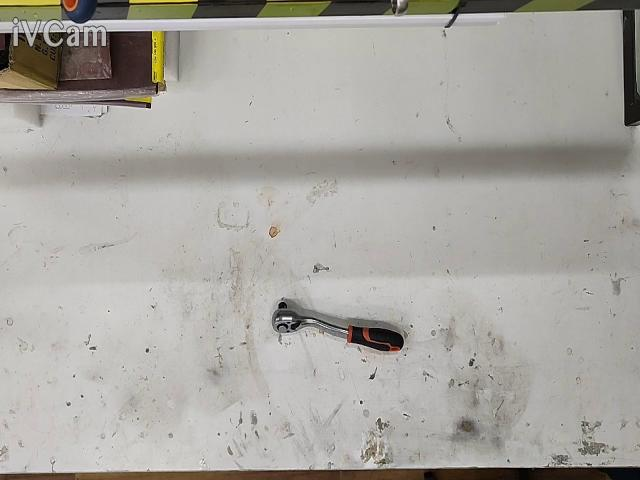Ratchet: (270, 301, 404, 353)
